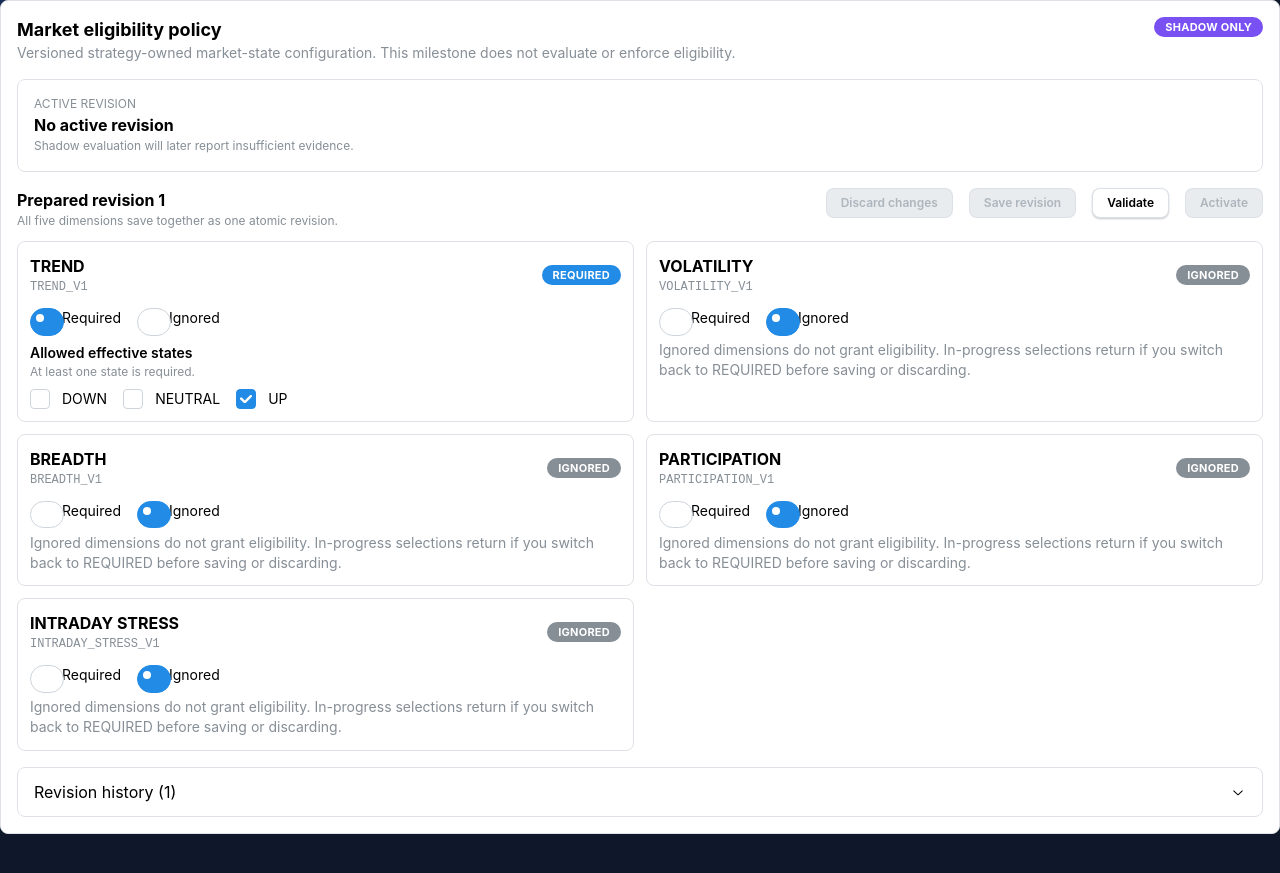
Test case: StrategyMarketPolicyPanel › disables save and shows an inline error when one required dimension has no states
Click the checkbox labelled "UP" at (246, 399), box [236,389,256,409]
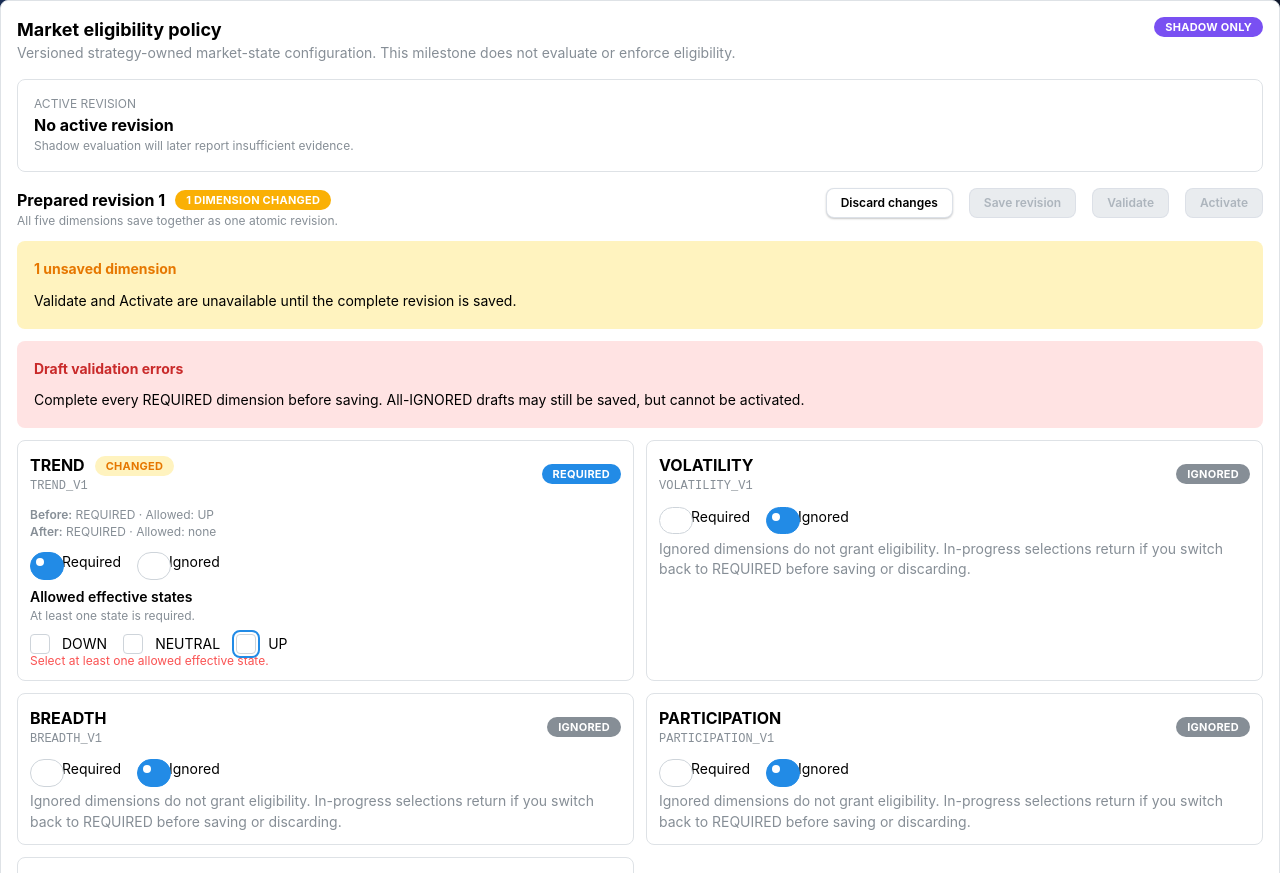
expect the button "Save revision" is disabled: met, box [969,188,1076,218]
expect the text "Select at least one allowed effective state." is shown: met, box [30,652,269,668]
expect the text "1 dimension changed" is shown: met, box [186,191,320,209]
